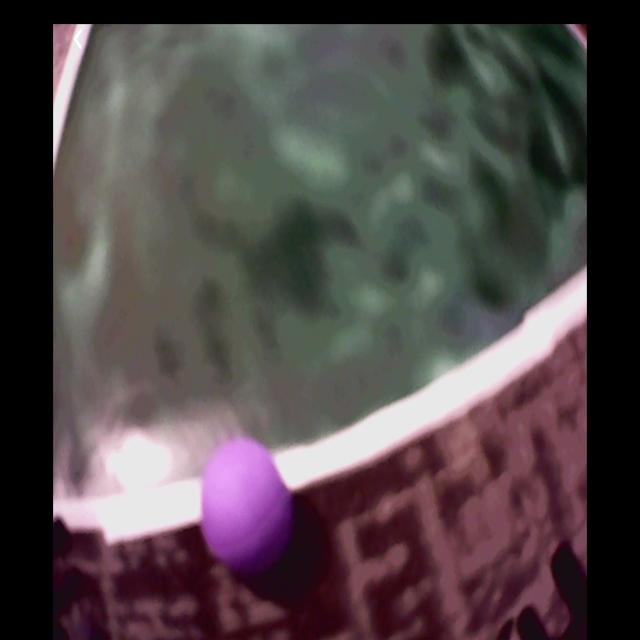ball: (202, 436, 295, 569)
